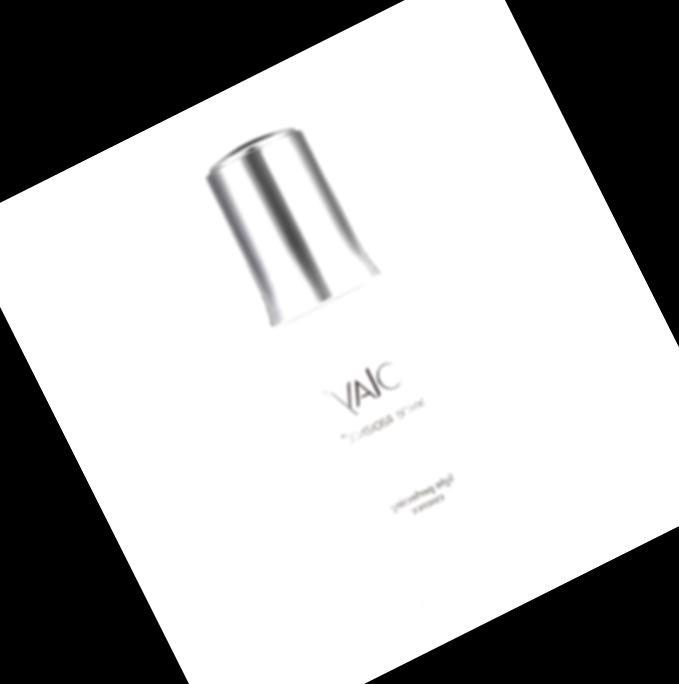cosmetic: (189, 111, 523, 608)
